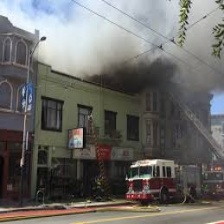smoke: (99, 31, 196, 86)
